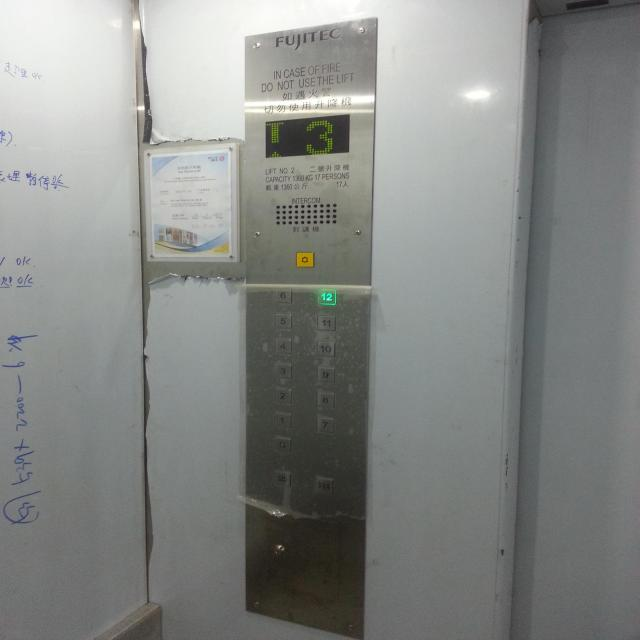1: (273, 412, 292, 428)
10: (316, 340, 336, 357)
11: (317, 314, 336, 331)
12: (316, 288, 336, 305)
2: (275, 388, 291, 403)
3: (274, 362, 292, 378)
4: (274, 337, 293, 354)
5: (274, 314, 292, 328)
6: (274, 289, 292, 303)
7: (316, 416, 335, 433)
8: (316, 391, 335, 407)
9: (316, 367, 335, 382)
G: (274, 436, 292, 453)
alarm: (296, 252, 314, 268)
close: (315, 477, 333, 494)
keyhole: (271, 542, 285, 558)
led: (264, 114, 352, 159)
open: (273, 469, 290, 486)
